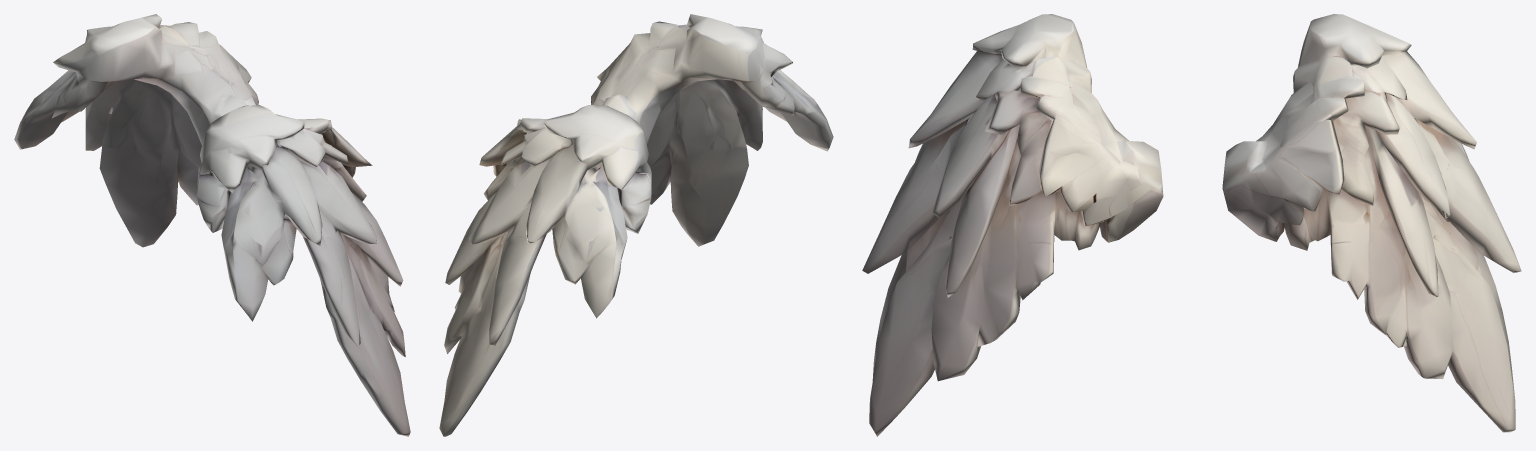
Rendered from angel-wings.glb.
3 renders of one model, left to right at view 1: azimuth 30°, elevation 25°; view 2: azimuth 150°, elevation 25°; view 3: azimuth 270°, elevation 25°, orthographic. The views are drawn at different scales.
Visible parts, largest first — view 1: tripo_node_418933a4-ff24-4132-b460-8228b57639f5; view 2: tripo_node_418933a4-ff24-4132-b460-8228b57639f5; view 3: tripo_node_418933a4-ff24-4132-b460-8228b57639f5.
Part boxes in pixels (box(x1,y1,x2,y2)): tripo_node_418933a4-ff24-4132-b460-8228b57639f5: box(14, 14, 410, 436); tripo_node_418933a4-ff24-4132-b460-8228b57639f5: box(439, 14, 833, 436); tripo_node_418933a4-ff24-4132-b460-8228b57639f5: box(862, 14, 1521, 436).
Bounding box in the file's own units: 0.3998 × 0.6044 × 1.
1 material, 1 textured.
